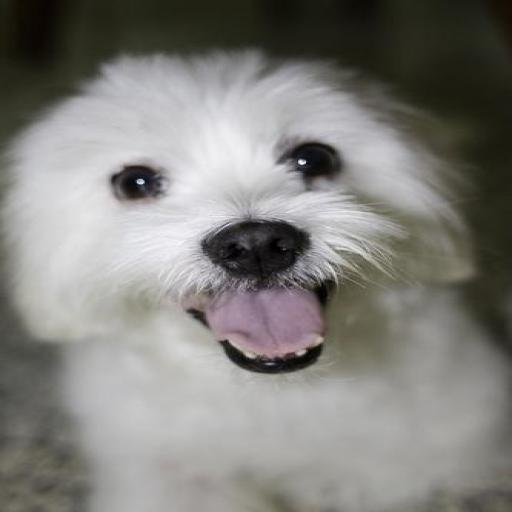dog_face: (5, 51, 449, 373)
